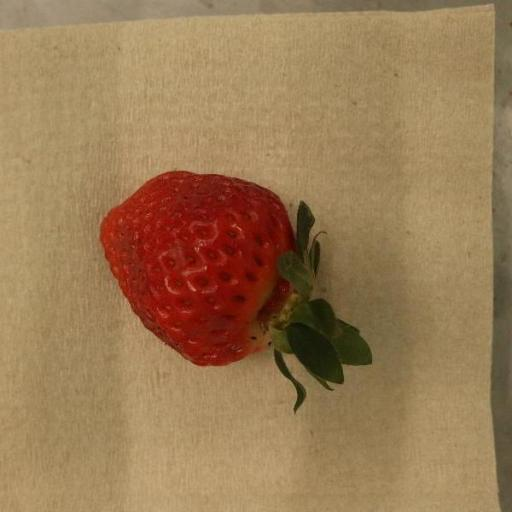Strawberry: (100, 171, 374, 411)
